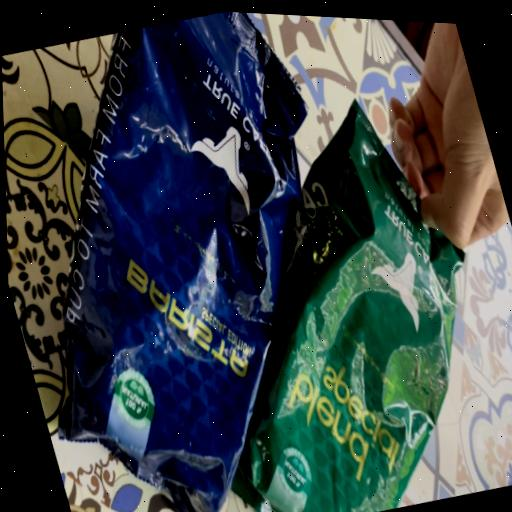cafe_hat: (58, 12, 306, 512)
cafe_xay: (232, 105, 463, 512)
